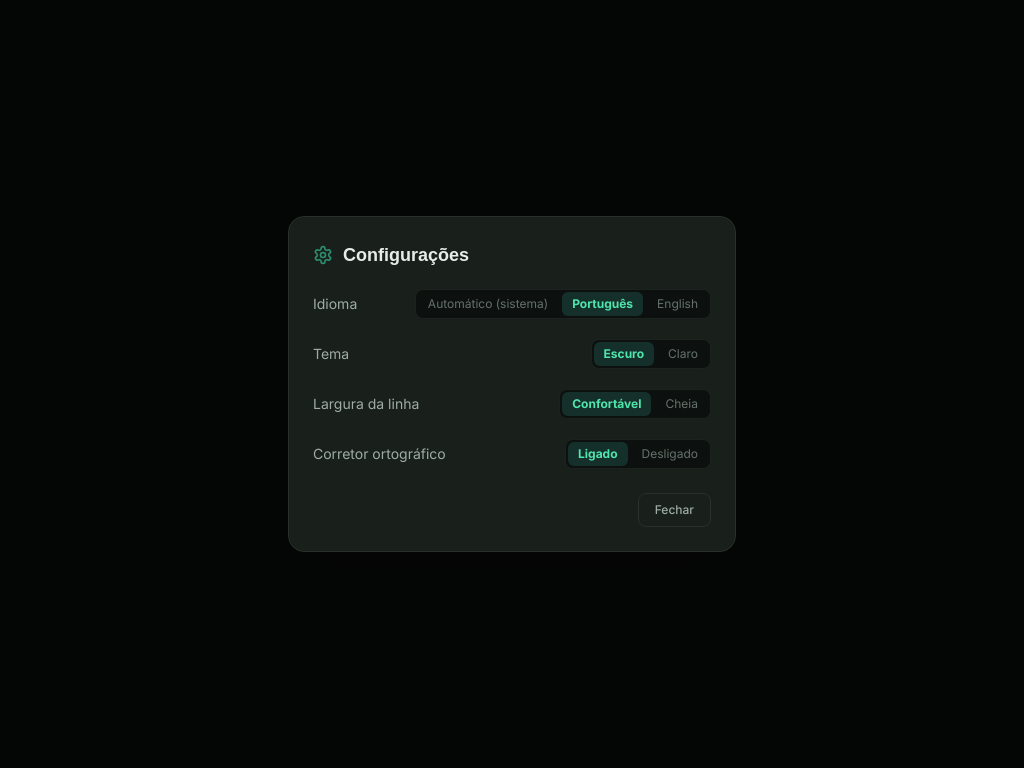
it: D0 — i18n + Configurações › modal: trocar o idioma re-renderiza AO VIVO e persiste language no config
Check: the heading "Configurações" is shown, box [343, 241, 469, 269]
What coordinates should you click on to do the following:
click the button with test id "settings-language-en"
I would click on:
 (678, 304)
Its box is [647, 292, 708, 316].
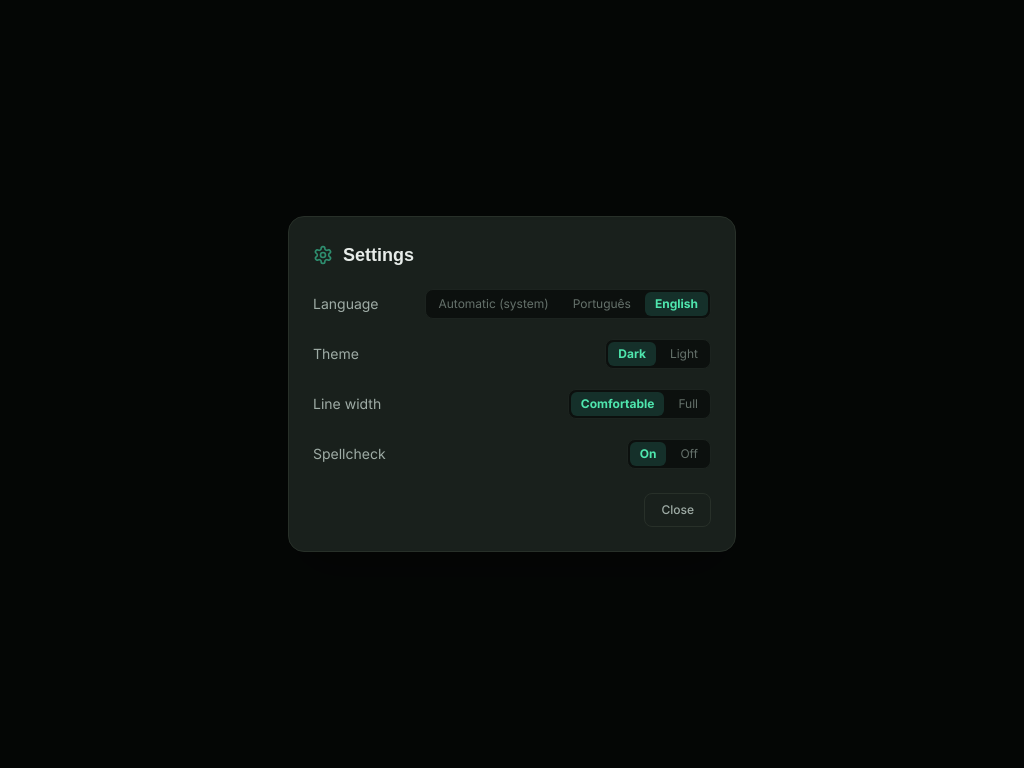
Check: the heading "Settings" is shown, box [343, 241, 414, 269]
